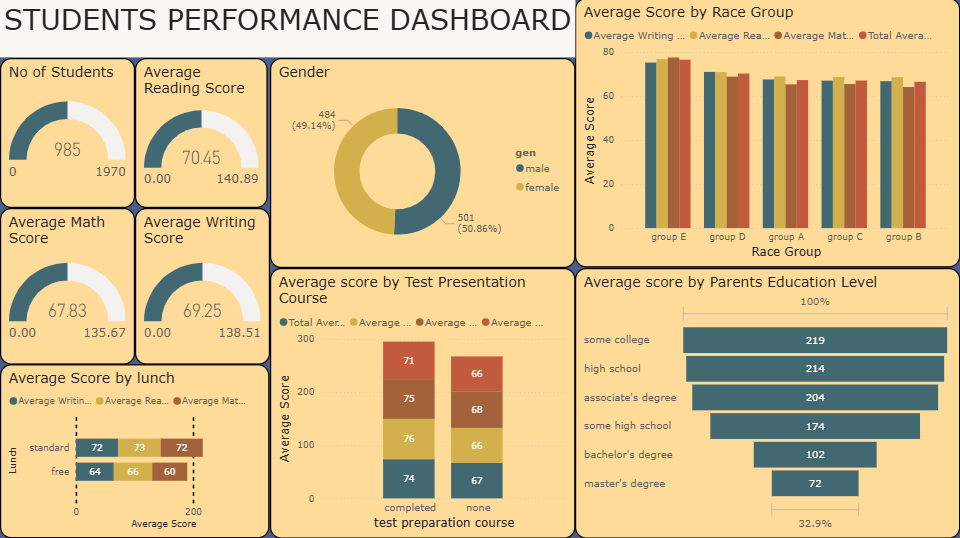

This screenshot's page, from the dashboard's own definition file:
{"tool":"powerbi","page":{"name":"Stacked bar","canvas":[1280,720],"ordinal":0},"visuals":[{"type":"barChart","title":"Average Score by lunch","fields":{"Category":["Worksheet.lun.1"],"Y":["Worksheet.Average Writing Score","Worksheet.Average Reading Score","Worksheet.Average Math Score"]},"box":[0,488.5,359.5,231.9],"z":0},{"type":"columnChart","title":"Average score by Test Presentation Course","fields":{"Category":["Worksheet.test preparation course"],"Y":["Worksheet.Total Average Score","Worksheet.Average Writing Score","Worksheet.Average Reading Score","Worksheet.Average Math Score"]},"box":[359.5,359.5,407.5,360.9],"z":1000},{"type":"clusteredColumnChart","title":"Average Score by Race Group","fields":{"Category":["Worksheet.race/ethnicity"],"Y":["Worksheet.Average Writing Score","Worksheet.Average Reading Score","Worksheet.Average Math Score","Worksheet.Total Average Score"]},"box":[767.1,0,513.2,359.5],"z":2000},{"type":"funnel","title":"Average score by Parents Education Level","fields":{"Category":["Worksheet.parental level of education"],"Y":["CountNonNull(Worksheet.parental level of education)"]},"box":[767.1,359.5,513.2,360.9],"z":3000},{"type":"donutChart","title":"Gender","fields":{"Category":["Worksheet.gen"],"Y":["Worksheet.No of Students"]},"box":[359.5,79.6,407.5,279.9],"z":4000},{"type":"gauge","fields":{"Y":["Worksheet.Average Math Score"]},"box":[0,279.9,179.8,208.6],"z":5000},{"type":"gauge","fields":{"Y":["Worksheet.Average Reading Score"]},"box":[179.8,79.6,177,200.3],"z":6000},{"type":"gauge","fields":{"Y":["Worksheet.Average Writing Score"]},"box":[179.8,279.9,179.8,208.6],"z":7000},{"type":"gauge","fields":{"Y":["Worksheet.No of Students"]},"box":[0,79.6,179.8,200.3],"z":8000},{"type":"textbox","box":[0,0,767.1,79.6],"z":9000}]}

Visuals, with their boxes in screenshot pixels (x1, y1, x2, y2), scaled from the page's 1280x720 canvas onto the 960x538 screenshot:
"Average Score by lunch" barChart: bbox(0, 365, 270, 537)
"Average score by Test Presentation Course" columnChart: bbox(270, 269, 575, 537)
"Average Score by Race Group" clusteredColumnChart: bbox(575, 0, 959, 269)
"Average score by Parents Education Level" funnel: bbox(575, 269, 959, 537)
"Gender" donutChart: bbox(270, 59, 575, 269)
gauge - Worksheet.Average Math Score: bbox(0, 209, 135, 365)
gauge - Worksheet.Average Reading Score: bbox(135, 59, 268, 209)
gauge - Worksheet.Average Writing Score: bbox(135, 209, 270, 365)
gauge - Worksheet.No of Students: bbox(0, 59, 135, 209)
textbox: bbox(0, 0, 575, 59)
